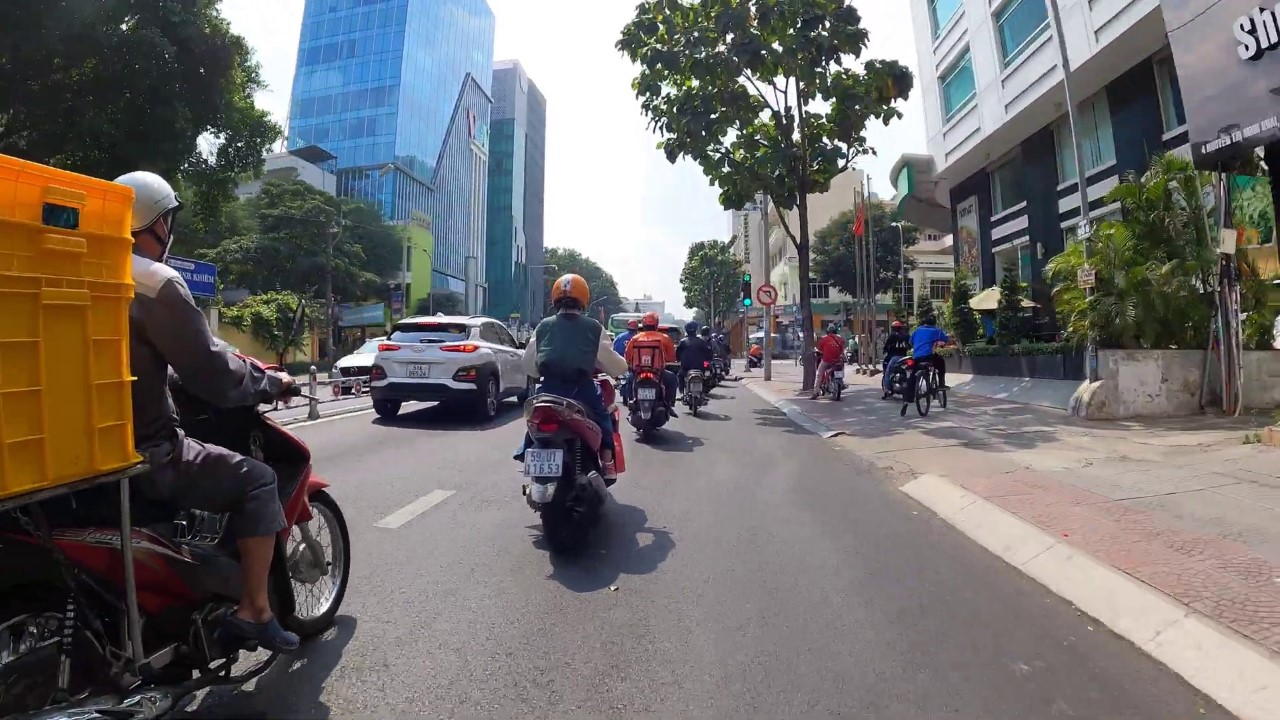cam_re_trai: (756, 283, 778, 307)
